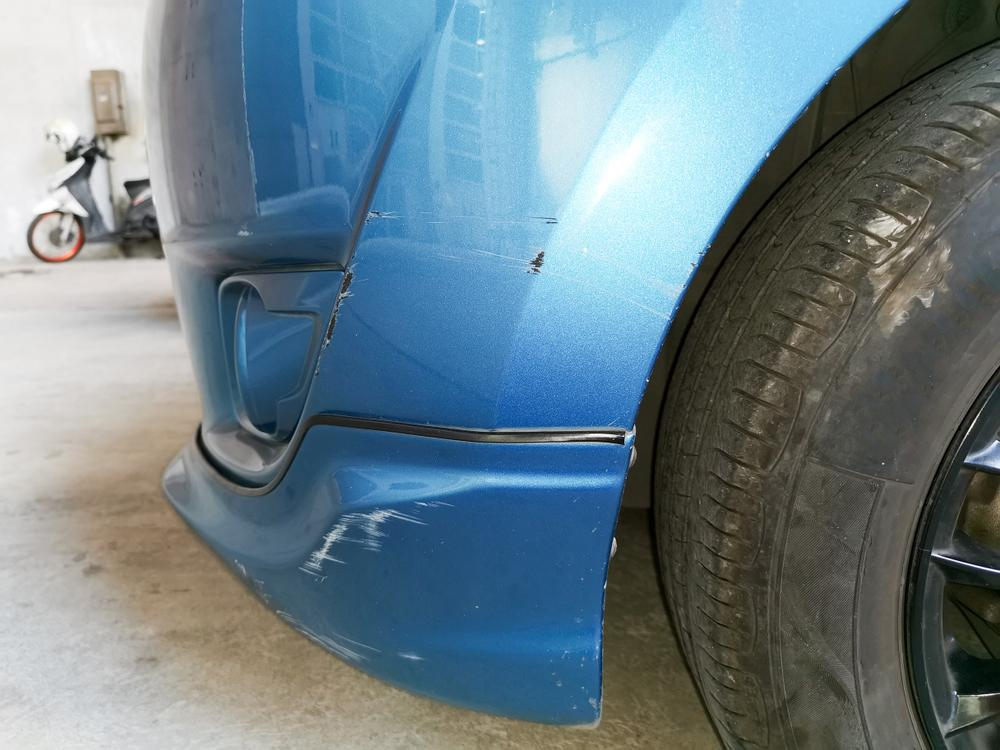scratch: (312, 204, 688, 373), (238, 559, 383, 664), (294, 498, 450, 579)
